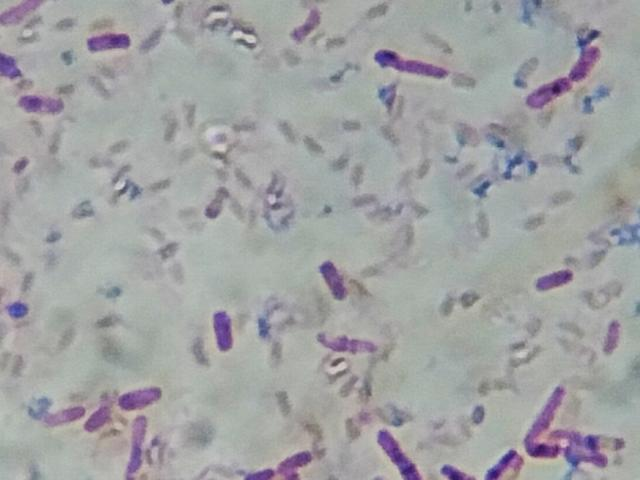E. coli: (376, 50, 453, 79), (538, 423, 623, 449), (519, 67, 574, 107), (522, 439, 607, 463), (373, 427, 411, 475), (316, 256, 352, 305), (596, 307, 628, 361), (562, 45, 612, 79), (116, 382, 168, 414), (18, 87, 72, 117), (533, 379, 564, 431), (534, 263, 580, 298), (48, 399, 96, 432), (85, 26, 134, 58), (212, 306, 239, 357), (476, 447, 514, 480), (88, 402, 119, 438), (272, 440, 306, 471), (0, 39, 23, 79), (433, 460, 463, 480), (246, 461, 270, 480)
